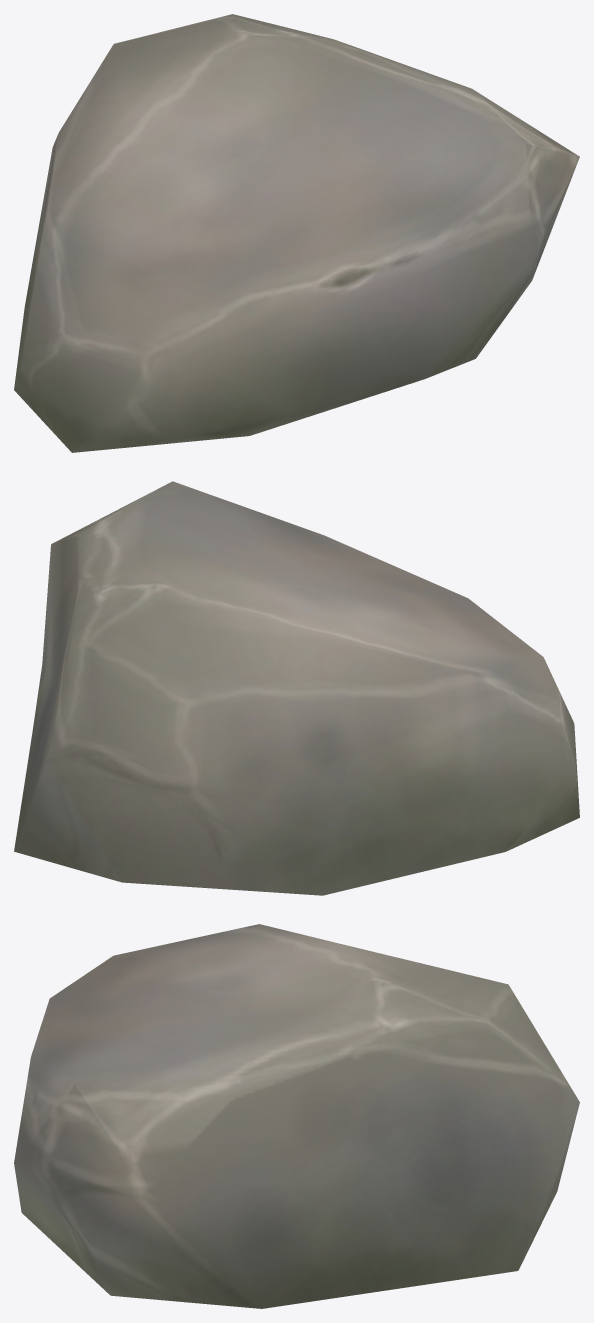
File: stone.gltf
3 renders of one model, top to bottom at view 1: azimuth 30°, elevation 25°; view 2: azimuth 150°, elevation 25°; view 3: azimuth 270°, elevation 25°, orthographic. The views are drawn at different scales.
Visible parts, largest first — view 1: Icosphere.016; view 2: Icosphere.016; view 3: Icosphere.016.
Part boxes in pixels (left/top/right/bottom): Icosphere.016: left=14, top=14, right=579, bottom=452; Icosphere.016: left=14, top=481, right=579, bottom=895; Icosphere.016: left=14, top=924, right=579, bottom=1308.
Size of the model in its own units: 0.2203 by 0.1015 by 0.1905.
Materials: 1 (1 with a texture image).
